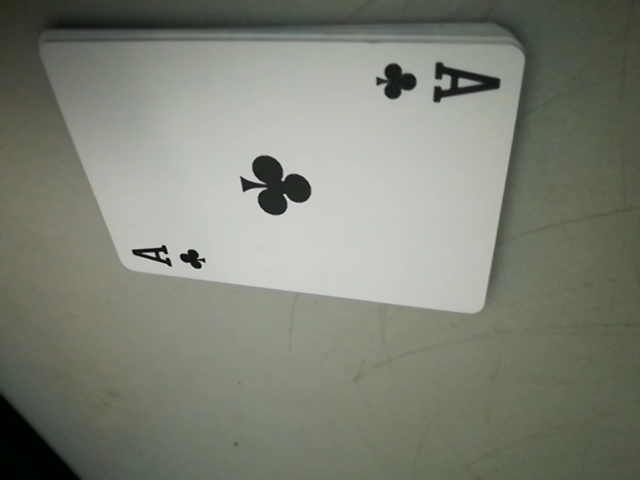mh a: (375, 53, 500, 112), (123, 235, 217, 275)
